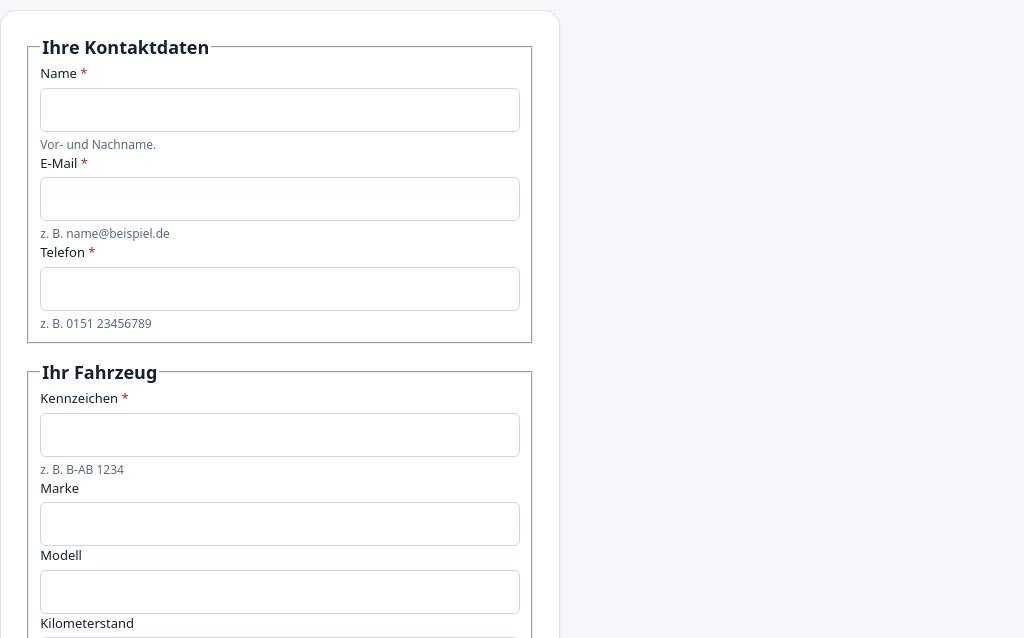
Test: AppointmentPage › submits the appointment and shows the returned order number and status
In the field labelled "Name *": (280,110) top-left (40, 88), bottom-right (520, 132), type "Anna Schmidt"
In the field labelled "E-Mail *": (280,199) top-left (40, 177), bottom-right (520, 221), type "anna.schmidt@example.de"
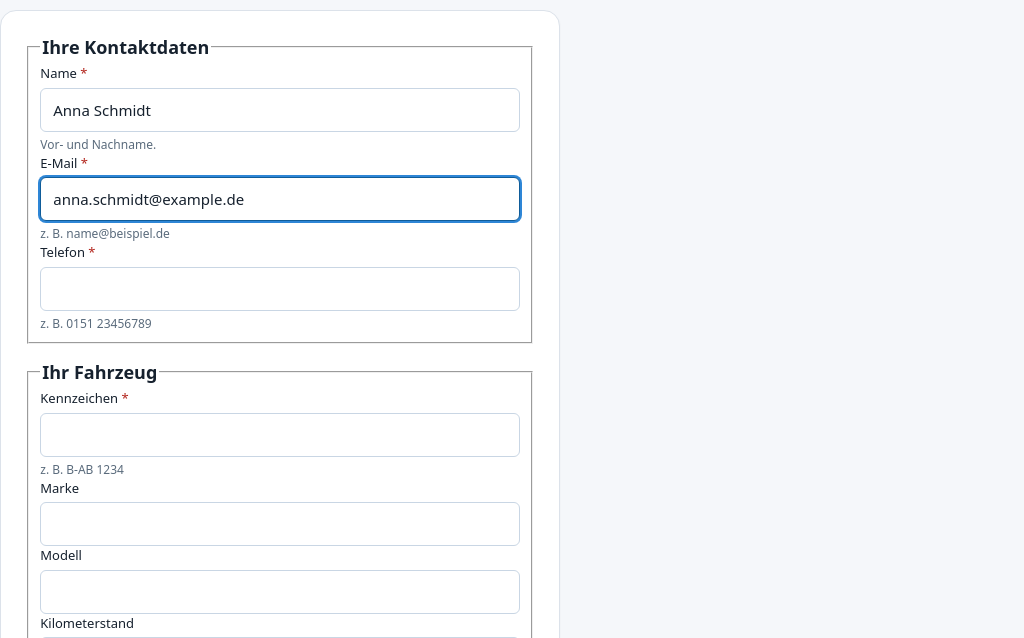
In the field labelled "Telefon *": (280,288) top-left (40, 266), bottom-right (520, 310), type "0151 23456789"
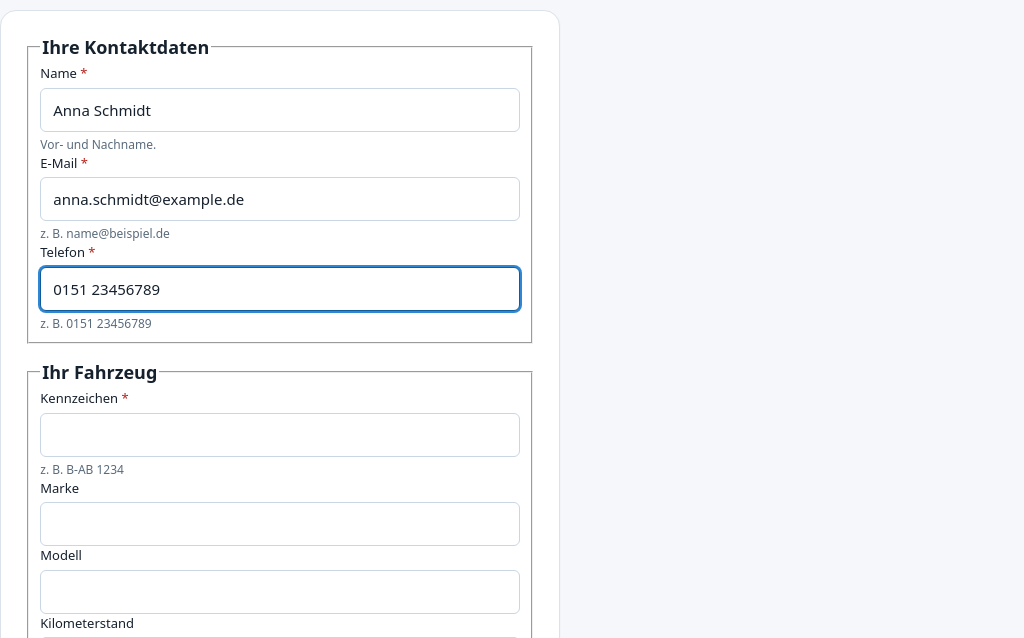
In the field labelled "Kennzeichen *": (280,435) top-left (40, 413), bottom-right (520, 457), type "B-AB 1234"
(page scrolled)
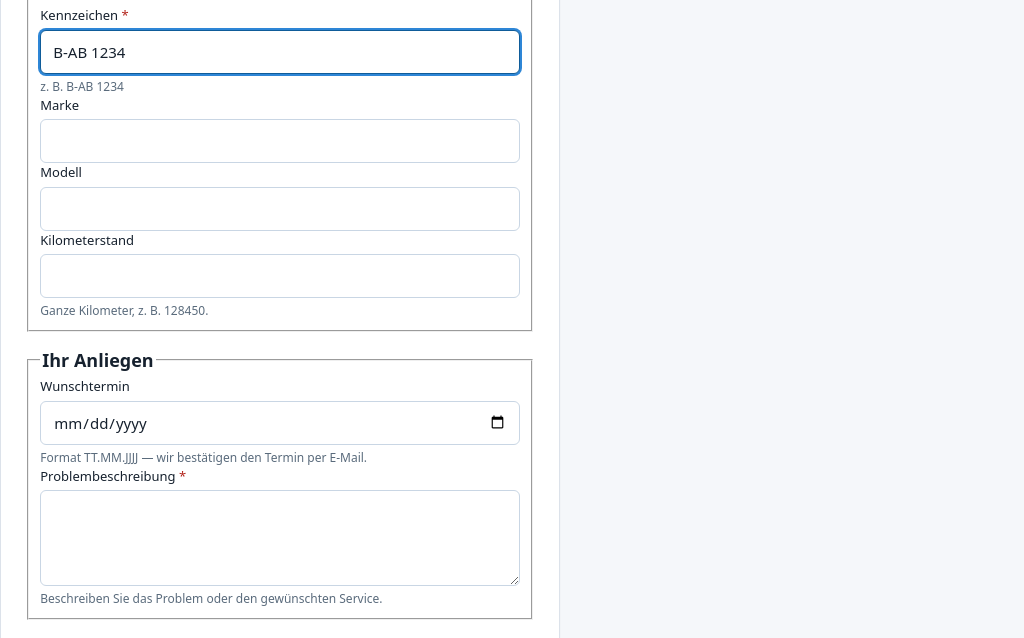
In the number field labelled "Kilometerstand": (280,276) top-left (40, 254), bottom-right (520, 298), type "128450"
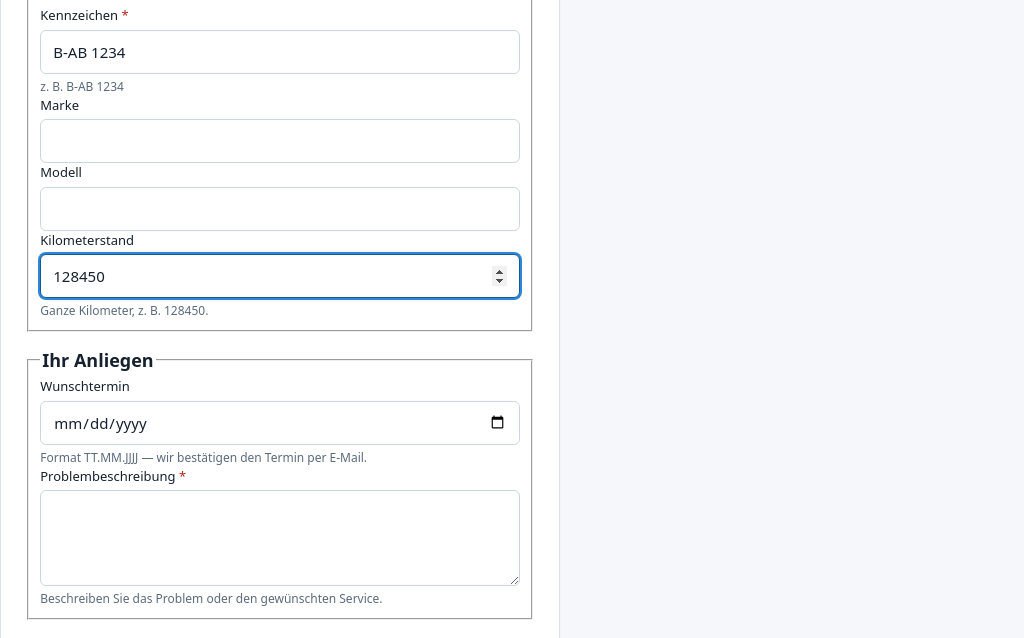
In the date field labelled "Wunschtermin": (280,423) top-left (40, 401), bottom-right (520, 445), type "2025-03-14"
In the text box labelled "Problembeschreibung *": (280,538) top-left (40, 490), bottom-right (520, 586), type "Bremsen quietschen vorne."
(page scrolled)
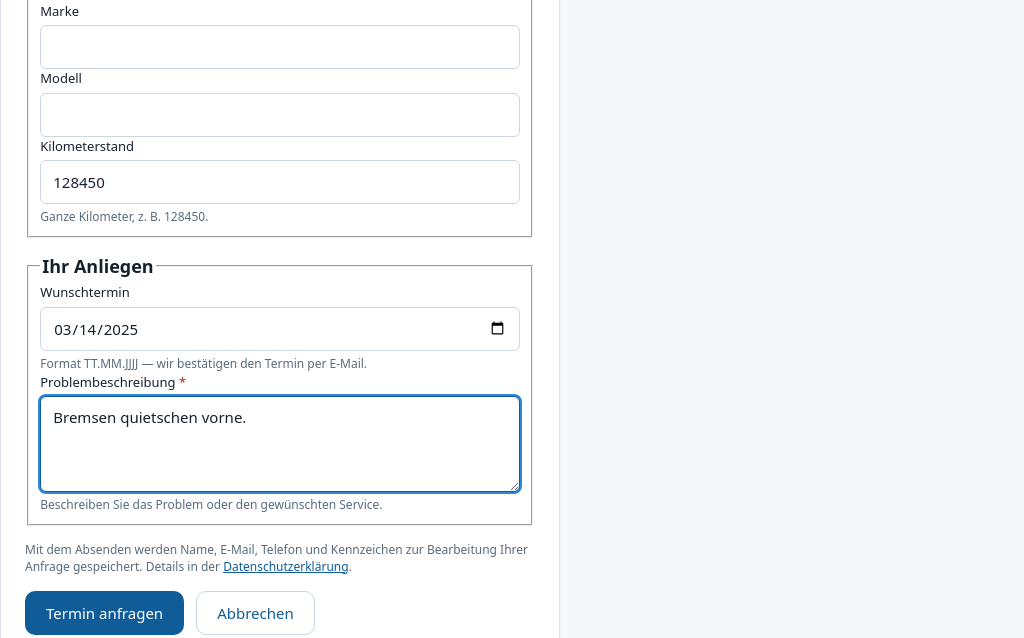
Click the button "Termin anfragen": (105,613) top-left (25, 591), bottom-right (184, 635)
(page scrolled)
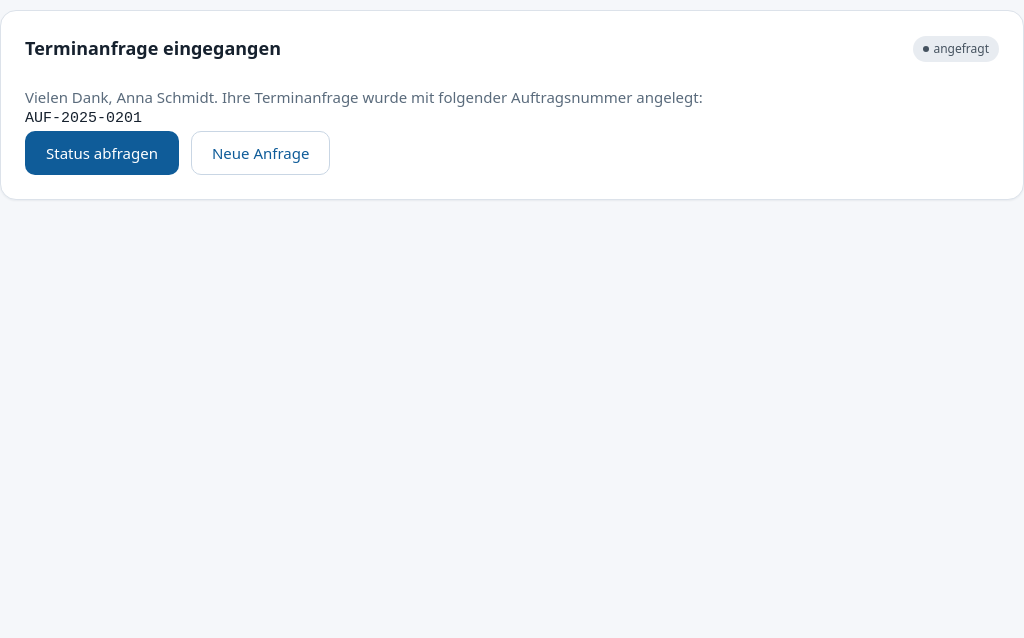
Expected: the text "AUF-2025-0201" is shown, top-left (25, 110), bottom-right (142, 127)
Expected: the text "angefragt" is shown, top-left (913, 36), bottom-right (999, 62)
